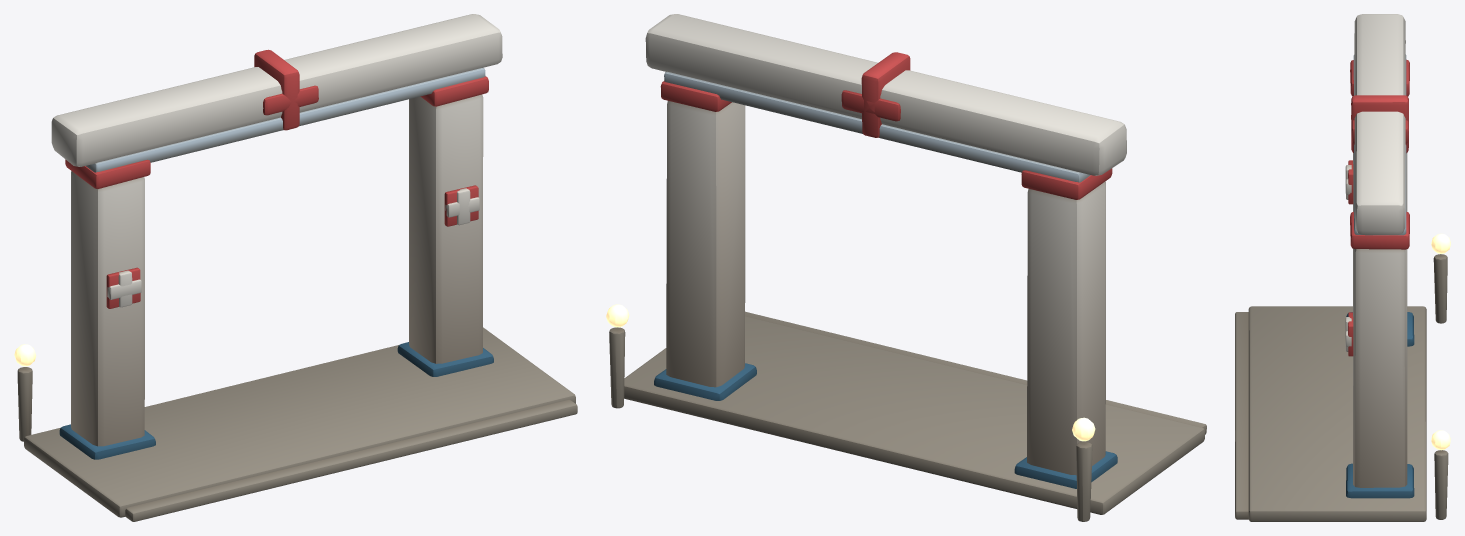
The picture shows the model from 3 angles, left to right: view 1: azimuth 30°, elevation 25°; view 2: azimuth 150°, elevation 25°; view 3: azimuth 270°, elevation 25°; orthographic projection. The views are drawn at different scales.
Parts seen in each view (by area): view 1: gate_f4796b8e; view 2: gate_f4796b8e; view 3: gate_f4796b8e.
Boxes of the visible parts, box(x1,y1,x2,y2) form: gate_f4796b8e: box(14, 14, 577, 521); gate_f4796b8e: box(606, 14, 1206, 521); gate_f4796b8e: box(1235, 14, 1450, 521).
Bounding box in the file's own units: 5.74 × 4.2 × 2.55.
